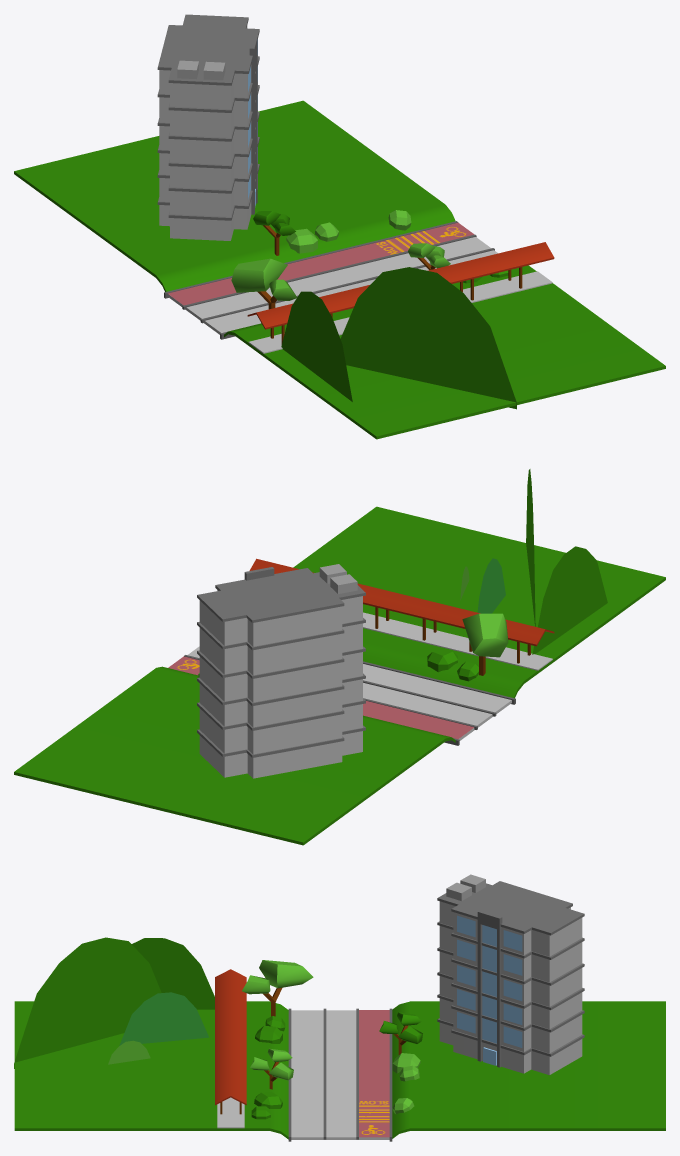
Rendered from Level 2 Chunk 2.fbx.
3 views of the same model, one above another, from view 1: azimuth 30°, elevation 25°; view 2: azimuth 150°, elevation 25°; view 3: azimuth 270°, elevation 25° (orthographic). The views are drawn at different scales.
Visible parts, largest first — view 1: pCube7966, pCube7964, Building_C23, pasted__pasted__pCube5553, pCube7967, pasted__pCube5671, pCube7970, pCube7958, pCube7956, pCube7953, pCube7955, pCube7954 (+3 smaller); view 2: Building_C23, pCube7966, pCube7964, pCube7967, pasted__pCube5671, pCube7958, pCube7953, pCube7970, pCube7956, pasted__pasted__pCube5552, pasted__pasted__pCube5553, Bushes197; view 3: pCube7966, Building_C23, pCube7964, pasted__pasted__pCube5553, pCube7967, pCube7958, pCube7970, pasted__pCube5671, pasted__pasted__pCube5552, pCube7956, pCube7955, pCube7954 (+6 smaller).
Part boxes in pixels (x1,y1,x2,y2): pCube7966: [14, 100, 455, 291]; pCube7964: [224, 265, 665, 439]; Building_C23: [157, 14, 259, 240]; pasted__pasted__pCube5553: [340, 267, 516, 409]; pCube7967: [168, 237, 497, 334]; pasted__pCube5671: [281, 291, 352, 401]; pCube7970: [167, 222, 474, 305]; pCube7958: [247, 242, 554, 329]; pCube7956: [231, 258, 297, 309]; pCube7953: [248, 271, 552, 353]; pCube7955: [253, 211, 295, 255]; pCube7954: [408, 243, 450, 270]; Building_C23: [197, 564, 365, 778]; pCube7966: [14, 666, 455, 845]; pCube7964: [293, 506, 665, 698]; pCube7967: [187, 646, 511, 740]; pasted__pCube5671: [532, 546, 607, 654]; pCube7958: [249, 558, 554, 646]; pCube7953: [363, 612, 552, 670]; pCube7970: [168, 656, 473, 738]; pCube7956: [462, 613, 508, 675]; pasted__pasted__pCube5552: [477, 558, 505, 613]; pasted__pasted__pCube5553: [526, 469, 535, 626]; Bushes197: [427, 647, 457, 672]; pCube7966: [392, 1001, 665, 1138]; Building_C23: [437, 874, 584, 1074]; pCube7964: [14, 1001, 288, 1139]; pasted__pasted__pCube5553: [14, 937, 161, 1068]; pCube7967: [291, 1010, 389, 1139]; pCube7958: [215, 969, 246, 1105]; pCube7970: [359, 1010, 389, 1137]; pasted__pCube5671: [131, 938, 214, 1009]; pasted__pasted__pCube5552: [119, 992, 209, 1045]; pCube7956: [242, 960, 313, 1016]; pCube7955: [379, 1012, 422, 1054]; pCube7954: [250, 1048, 293, 1089].
Size of the model in its own units: 12.39 by 7.37 by 26.58.
1 material, 1 textured.
